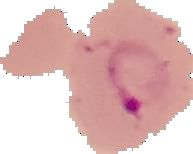parasitized: (104, 34, 178, 117)
